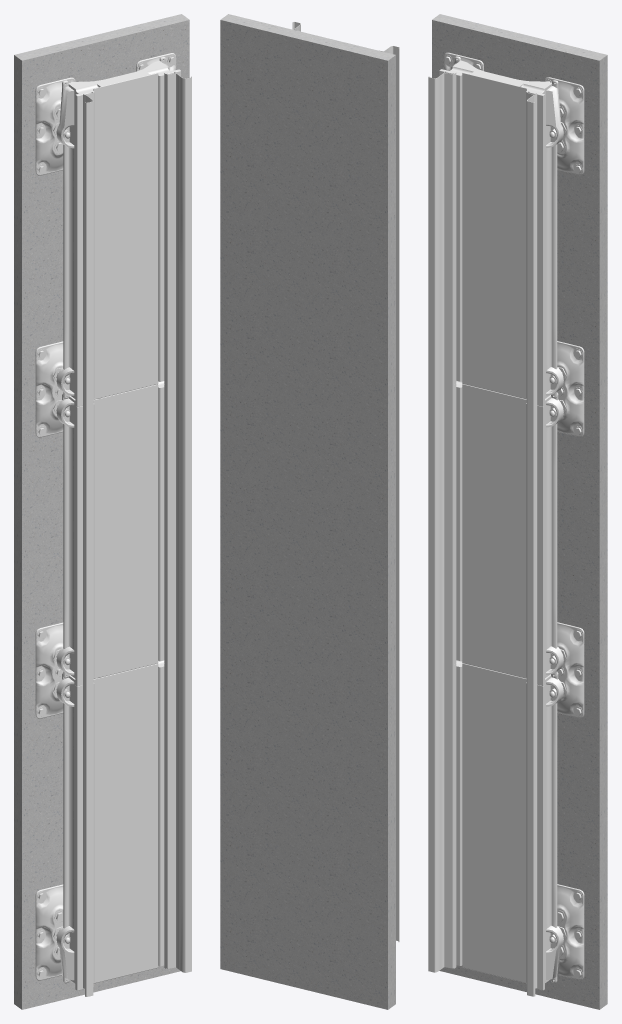
Rendered from LFAM1RobotRail.glb.
3 views of the same model, side by side, from view 1: azimuth 30°, elevation 25°; view 2: azimuth 150°, elevation 25°; view 3: azimuth 330°, elevation 25° (orthographic).
Parts seen in each view (by area): view 1: Rails, kuka rail; view 2: kuka rail, Rails; view 3: Rails, kuka rail.
Boxes of the visible parts, x1,y1,x2,y2 form: Rails: [35, 53, 191, 996]; kuka rail: [14, 14, 189, 1009]; kuka rail: [220, 14, 395, 1009]; Rails: [292, 21, 399, 941]; Rails: [428, 52, 584, 996]; kuka rail: [432, 14, 607, 1009].
Bounding box in the file's own units: 1.22 × 6.61 × 0.5321.
Materials: 2 (1 with a texture image).
